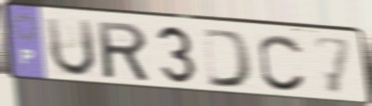3: (155, 23, 200, 88)
7: (312, 34, 354, 98)
C: (257, 32, 309, 94)
D: (201, 26, 256, 91)
R: (94, 19, 153, 84)
U: (42, 15, 99, 79)
